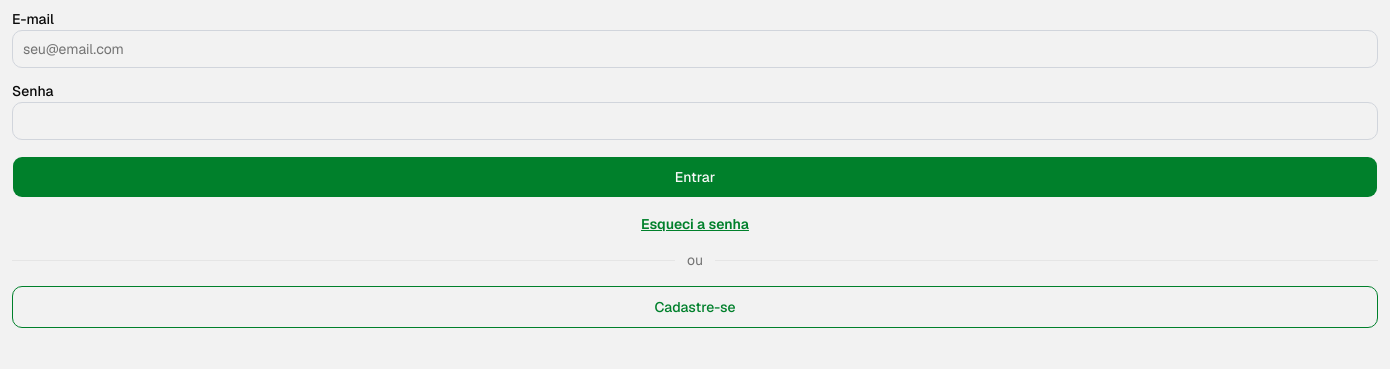
Scenario: LoginForm › validation › shows password error on empty password
Type "user@example.com" into the field labelled "E-mail" at (695, 49), box [12, 30, 1378, 68]
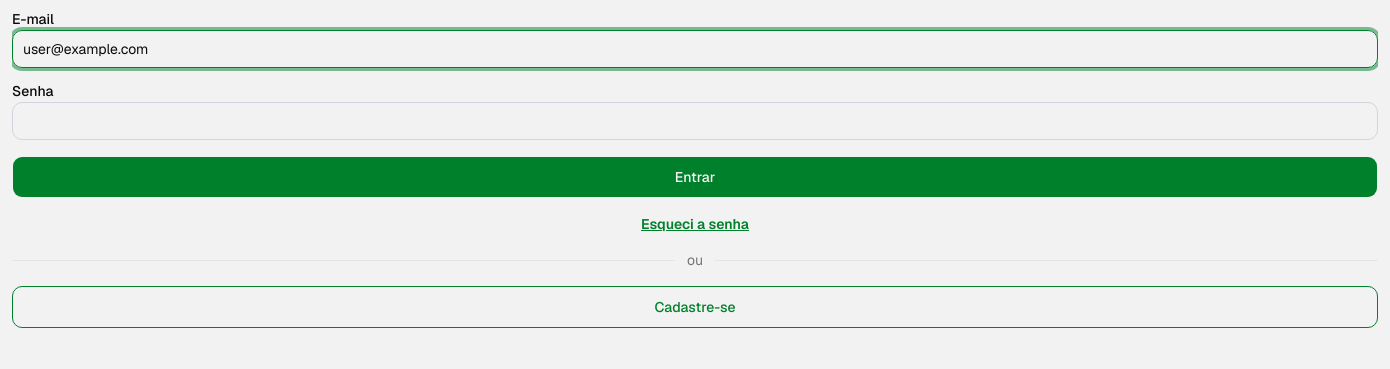
Click the button "Entrar" at (695, 177), box [12, 156, 1378, 198]
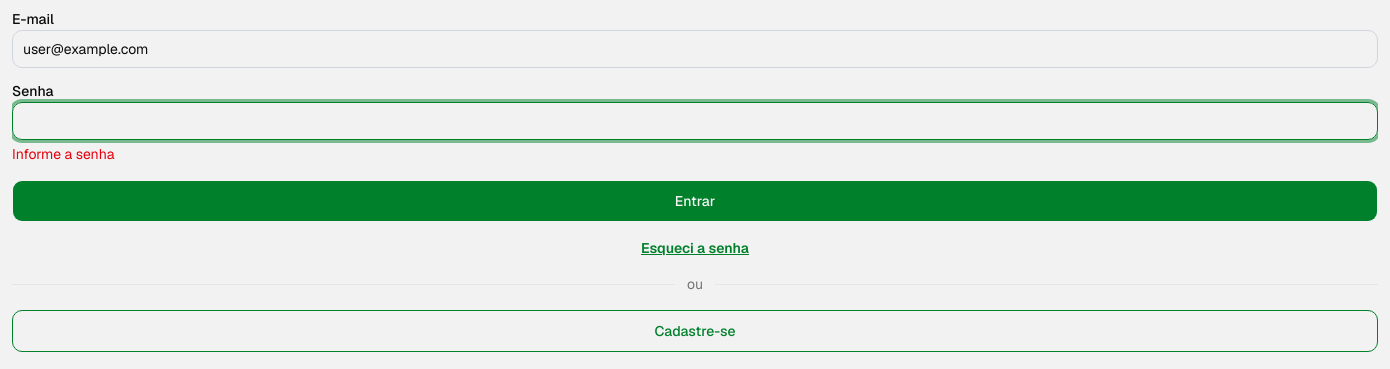
expect the text "Informe a senha" is shown: met, box [12, 145, 114, 163]
